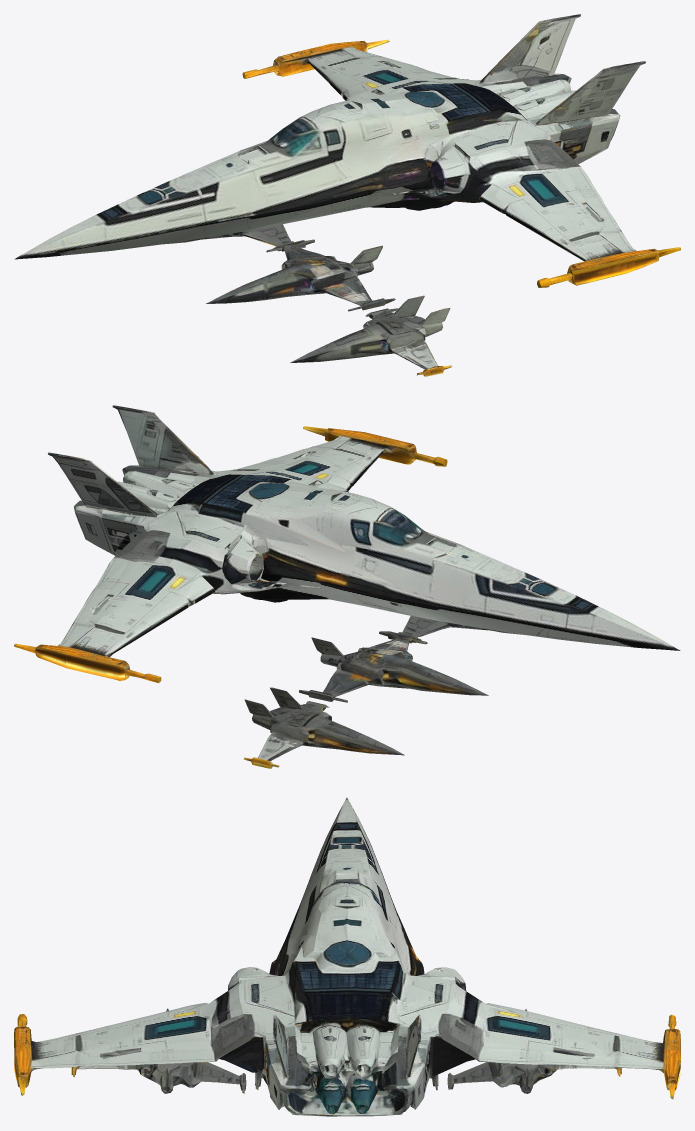
File: vessel-needle.glb
The picture shows the model from 3 angles, top to bottom: view 1: azimuth 30°, elevation 25°; view 2: azimuth 150°, elevation 25°; view 3: azimuth 270°, elevation 25°; orthographic projection. The views are drawn at different scales.
Size of the model in its own units: 1.9 by 0.5432 by 1.63.
1 material, 1 textured.
